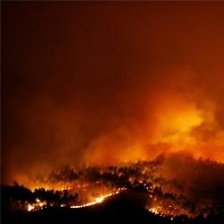fire: (2, 159, 213, 222)
smoke: (108, 94, 224, 146)
